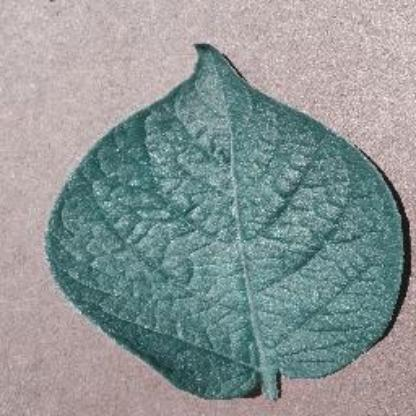Healthy-plant: (41, 37, 407, 406)
